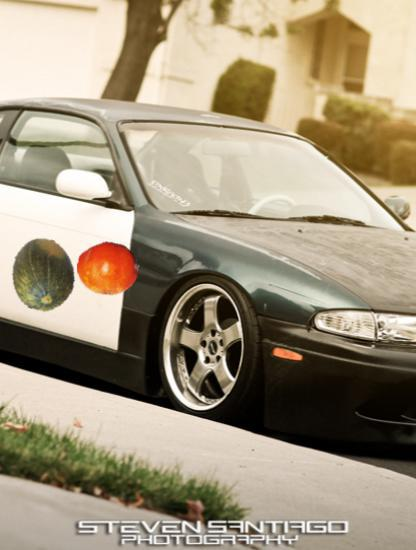Clementine: (77, 237, 141, 301)
Melon: (10, 240, 82, 312)
